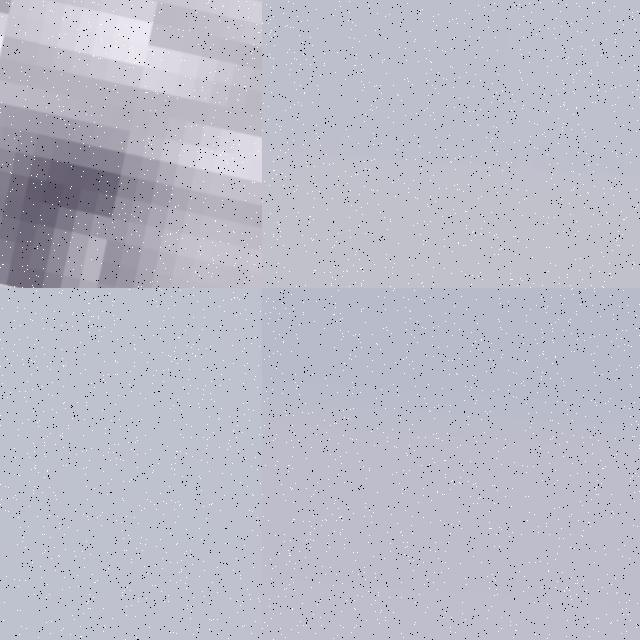drone: (0, 0, 262, 288)
